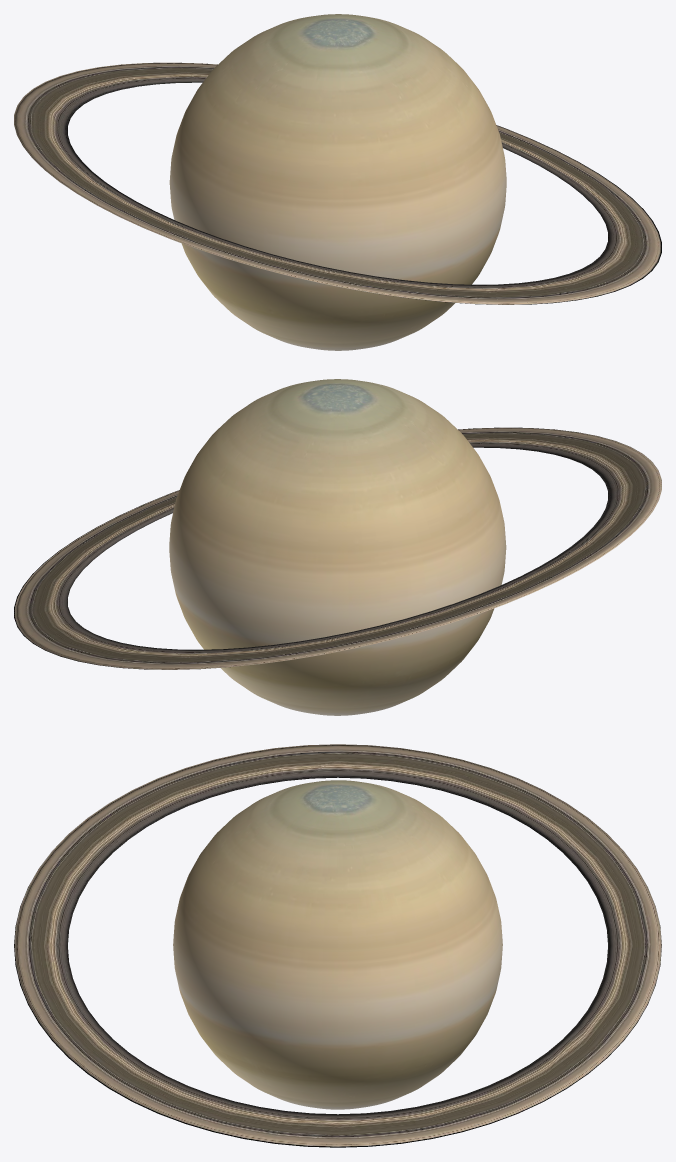
The model's file is saturn.glb.
3 views of the same model, one above another, from view 1: azimuth 30°, elevation 25°; view 2: azimuth 150°, elevation 25°; view 3: azimuth 270°, elevation 25° (orthographic). The views are drawn at different scales.
Parts seen in each view (by area): view 1: Sphere_Material.002_0, Circle_ring_0; view 2: Sphere_Material.002_0, Circle_ring_0; view 3: Sphere_Material.002_0, Circle_ring_0.
Part boxes in pixels (x1,y1,x2,y2): Sphere_Material.002_0: (169,14,506,350); Circle_ring_0: (14,62,661,304); Sphere_Material.002_0: (169,379,506,715); Circle_ring_0: (14,427,661,669); Sphere_Material.002_0: (173,780,502,1109); Circle_ring_0: (14,744,661,1147).
Bounding box in the file's own units: 382 × 200 × 393.
Materials: 2 (2 with a texture image).
